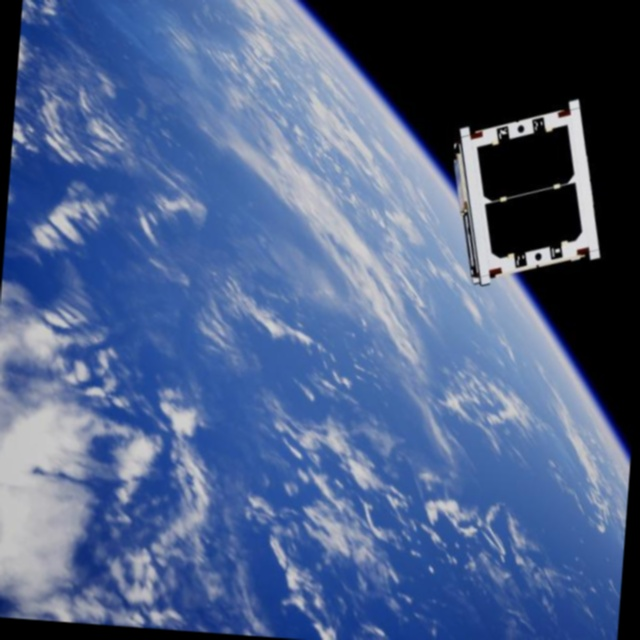satellite: (438, 96, 618, 300)
